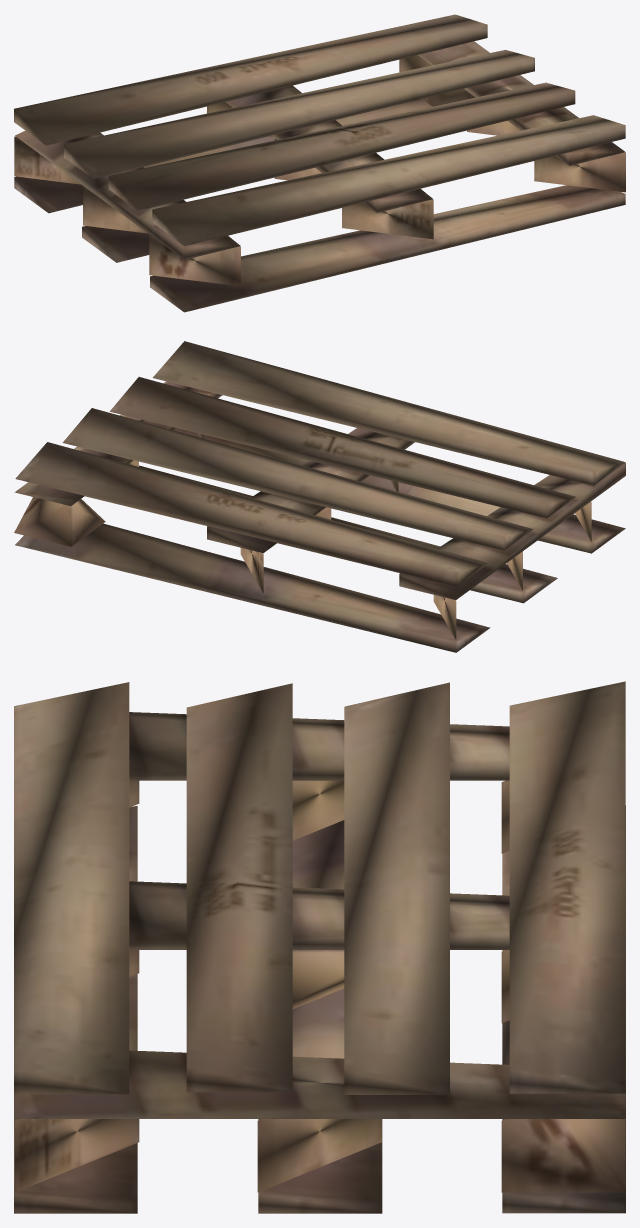
File: pallet-lo.glb
The picture shows the model from 3 angles, top to bottom: view 1: azimuth 30°, elevation 25°; view 2: azimuth 150°, elevation 25°; view 3: azimuth 270°, elevation 25°; orthographic projection. The views are drawn at different scales.
Parts seen in each view (by area): view 1: body; view 2: body; view 3: body.
Part boxes in pixels (x1,y1,x2,y2): body: [14, 14, 625, 312]; body: [14, 341, 625, 652]; body: [14, 681, 625, 1213].
Size of the model in its own units: 1.2 by 0.2067 by 0.7985.
1 material, 1 textured.
